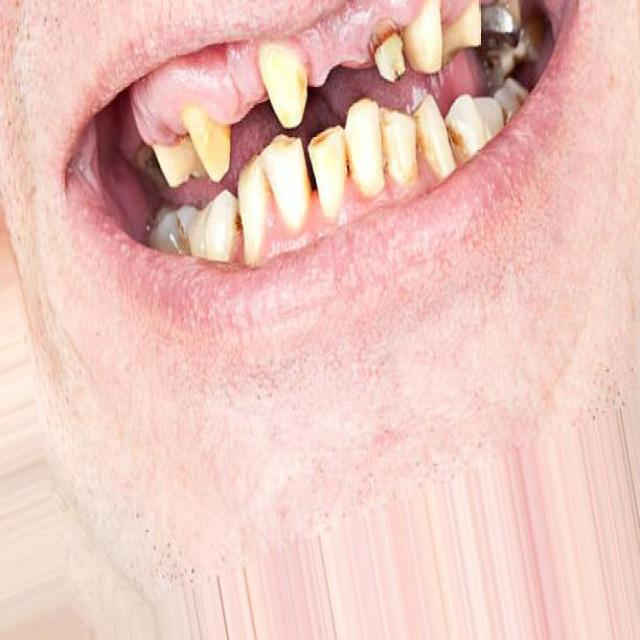caries: (365, 8, 411, 89), (471, 0, 523, 58), (502, 44, 540, 110), (439, 114, 474, 176)
